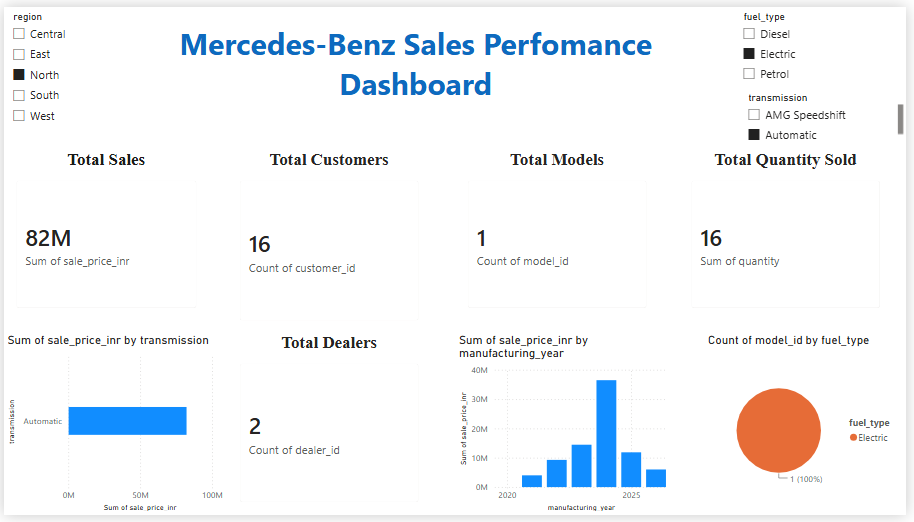

The dashboard page shown, as its layout file describes it:
{"tool":"powerbi","page":{"name":"Sales Performance Dashboard","canvas":[1280,720],"ordinal":0},"visuals":[{"type":"cardVisual","title":"Total Sales","fields":{"Data":["Sum(gold_fact_sales.sale_price_inr)"]},"box":[0,202,290,242],"z":0},{"type":"cardVisual","title":"Total Quantity Sold","fields":{"Data":["Sum(gold_fact_sales.quantity)"]},"box":[958,202,302,242],"z":1000},{"type":"cardVisual","title":"Total Customers","fields":{"Data":["Count(gold_fact_sales.customer_id)"]},"box":[316,202,288,260],"z":2000},{"type":"cardVisual","title":"Total Dealers","fields":{"Data":["Count(gold_fact_sales.dealer_id)"]},"box":[318,462,288,258],"z":3000},{"type":"cardVisual","title":"Total Models","fields":{"Data":["Count(gold_fact_sales.model_id)"]},"box":[640,202,288,242],"z":4000},{"type":"clusteredColumnChart","fields":{"Category":["gold_fact_sales.manufacturing_year"],"Y":["Sum(gold_fact_sales.sale_price_inr)"]},"box":[640,462,306,258],"z":5000},{"type":"clusteredBarChart","fields":{"Category":["gold_fact_sales.transmission"],"Y":["Sum(gold_fact_sales.sale_price_inr)"]},"box":[0,462,316,258],"z":6000},{"type":"pieChart","fields":{"Category":["gold_dim_model.fuel_type"],"Y":["Count(gold_dim_model.model_id)"]},"box":[994,462,286,258],"z":7000},{"type":"textbox","box":[132,16,904,140],"z":8000},{"type":"slicer","fields":{"Values":["gold_dim_model.fuel_type"]},"box":[1036,0,244,114],"z":9000},{"type":"slicer","fields":{"Values":["gold_fact_sales.transmission"]},"box":[1042,114,238,82],"z":9001},{"type":"slicer","fields":{"Values":["gold_dim_dealer.region"]},"box":[0,0,132,176],"z":9002}]}

Visuals, with their boxes in screenshot pixels (x1, y1, x2, y2), scaled from the page's 1280x720 canvas onto the 914x522 screenshot:
"Total Sales" cardVisual: x1=0 y1=146 x2=207 y2=322
"Total Quantity Sold" cardVisual: x1=684 y1=146 x2=900 y2=322
"Total Customers" cardVisual: x1=226 y1=146 x2=431 y2=335
"Total Dealers" cardVisual: x1=227 y1=335 x2=433 y2=521
"Total Models" cardVisual: x1=457 y1=146 x2=663 y2=322
clusteredColumnChart - gold_fact_sales.manufacturing_year x Sum(gold_fact_sales.sale_price_inr): x1=457 y1=335 x2=676 y2=521
clusteredBarChart - gold_fact_sales.transmission x Sum(gold_fact_sales.sale_price_inr): x1=0 y1=335 x2=226 y2=521
pieChart - gold_dim_model.fuel_type x Count(gold_dim_model.model_id): x1=710 y1=335 x2=913 y2=521
textbox: x1=94 y1=12 x2=740 y2=113
slicer - gold_dim_model.fuel_type: x1=740 y1=0 x2=913 y2=83
slicer - gold_fact_sales.transmission: x1=744 y1=83 x2=913 y2=142
slicer - gold_dim_dealer.region: x1=0 y1=0 x2=94 y2=128
